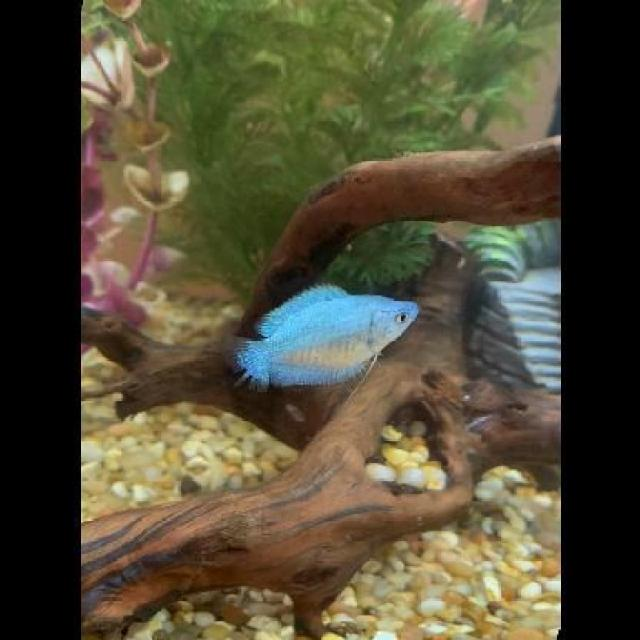Gourami: (231, 282, 424, 398)
